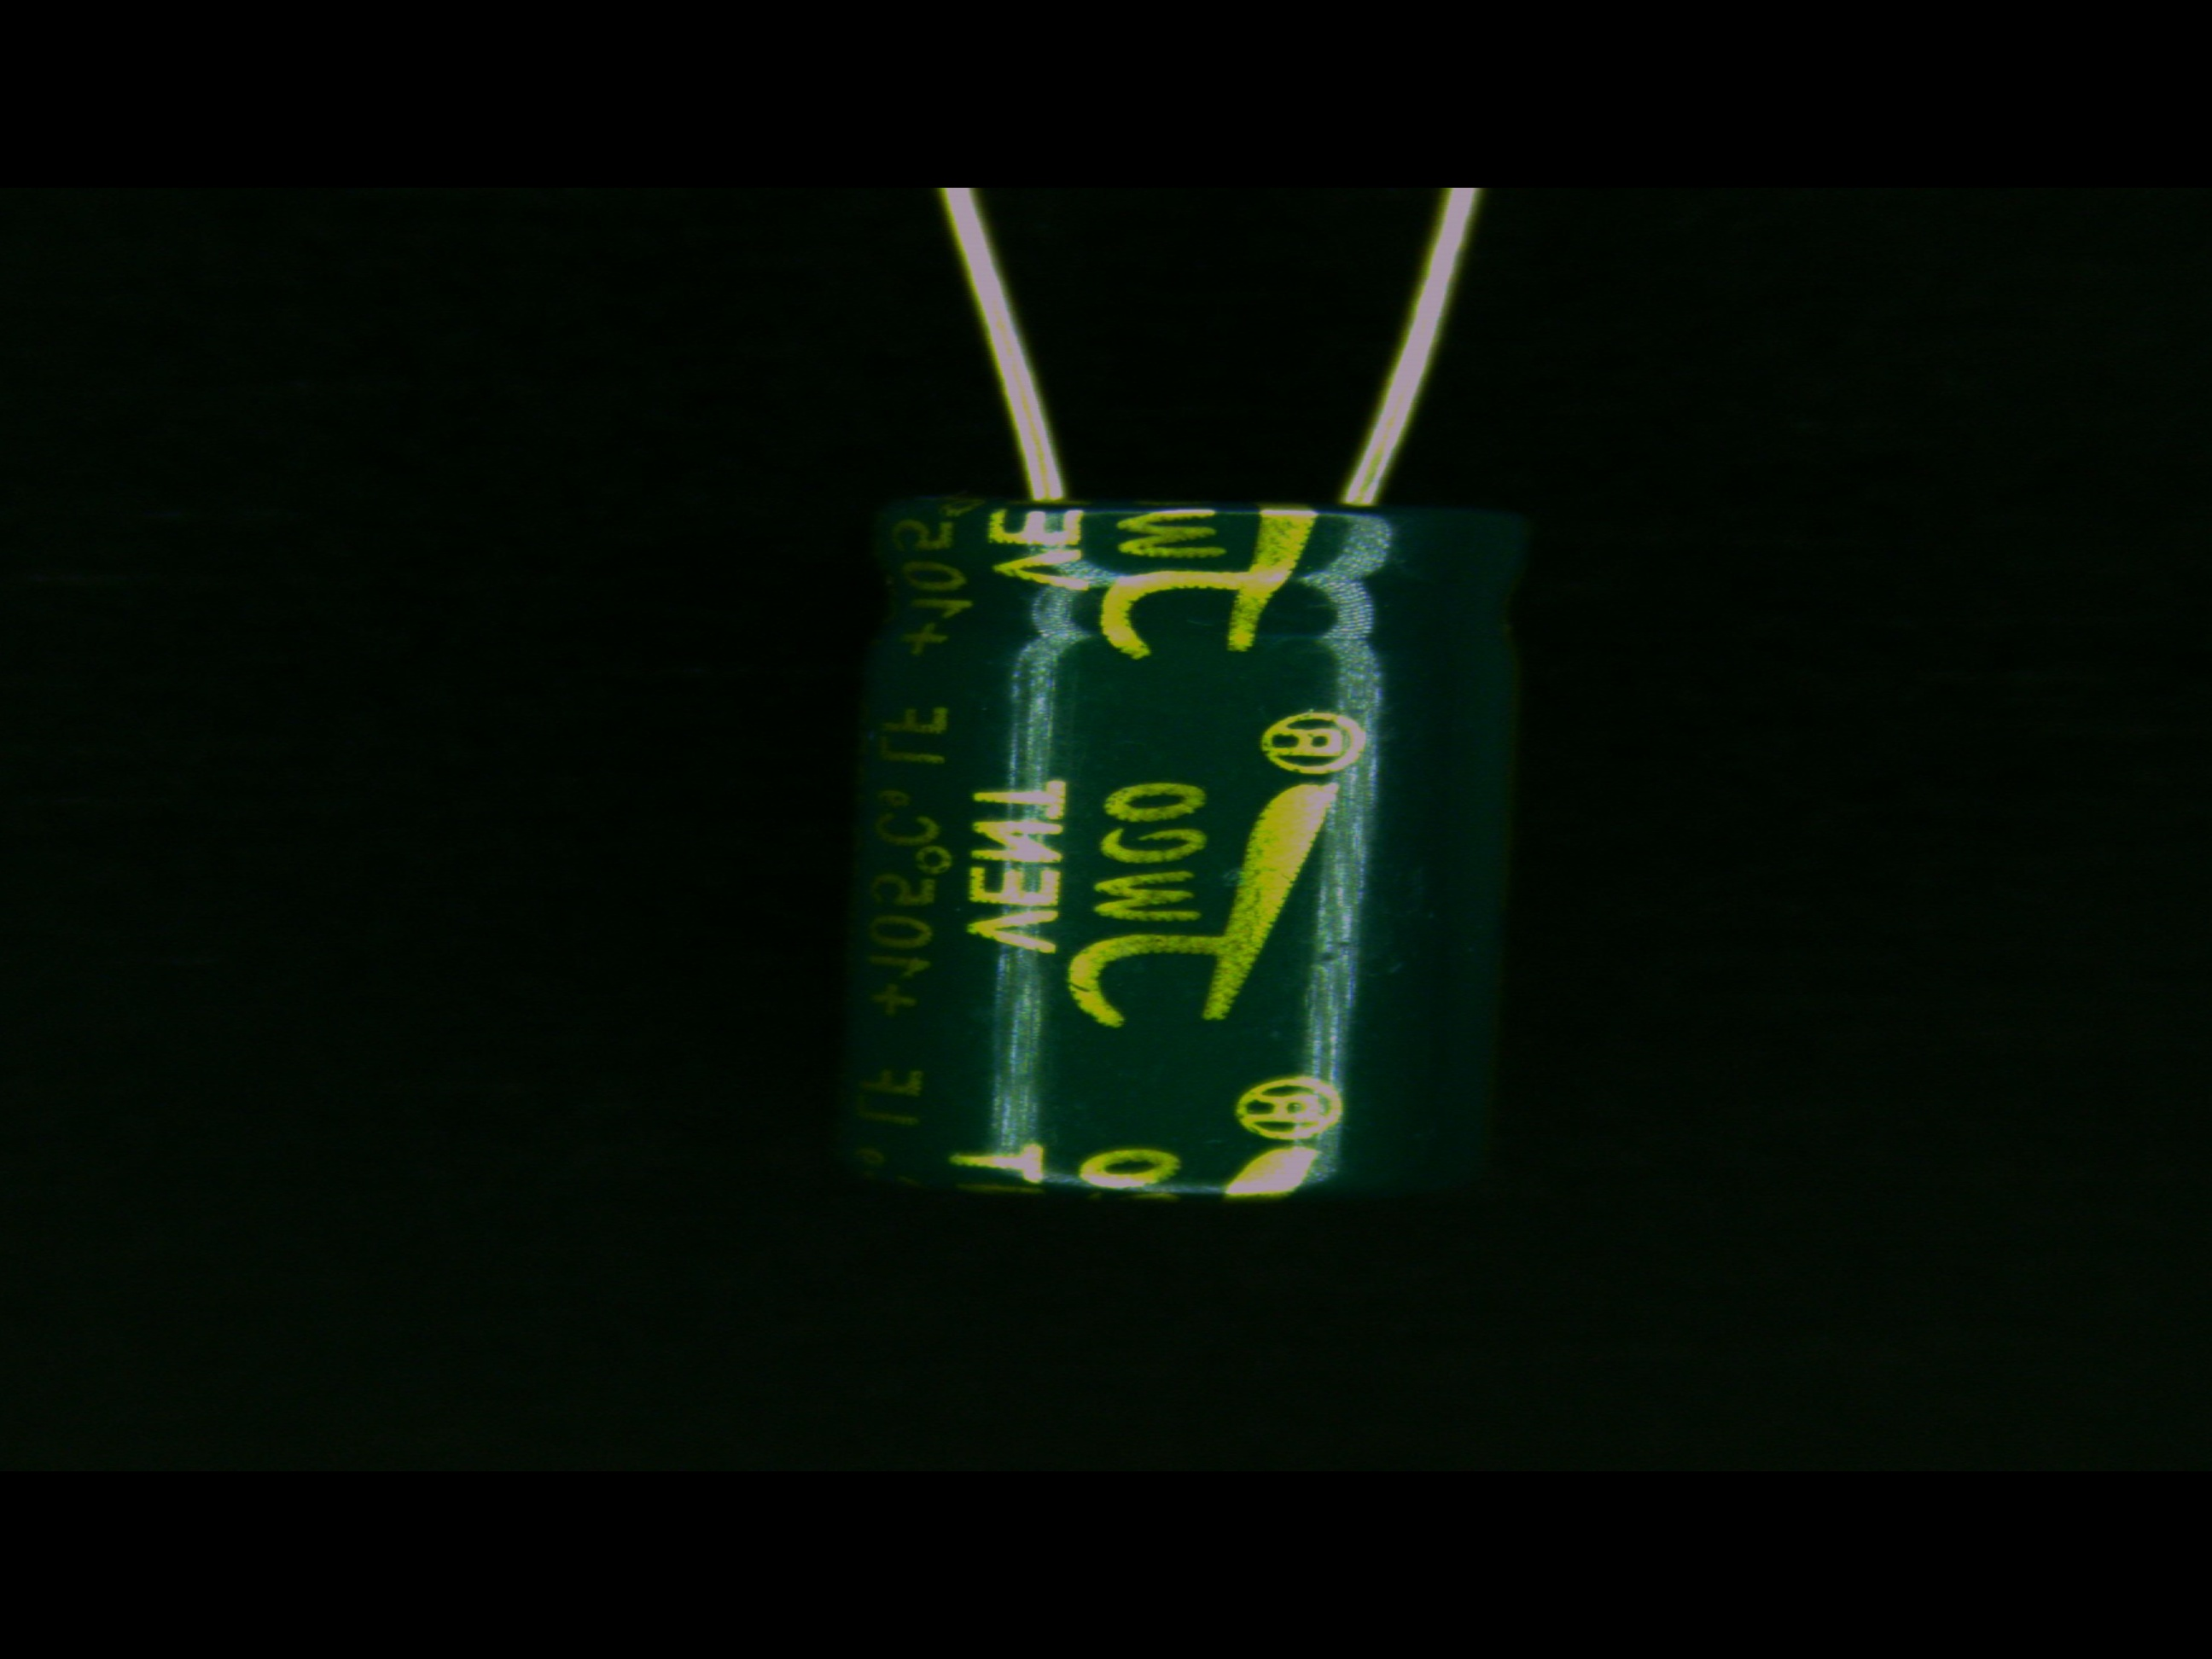c1: (824, 411, 1545, 1204)
